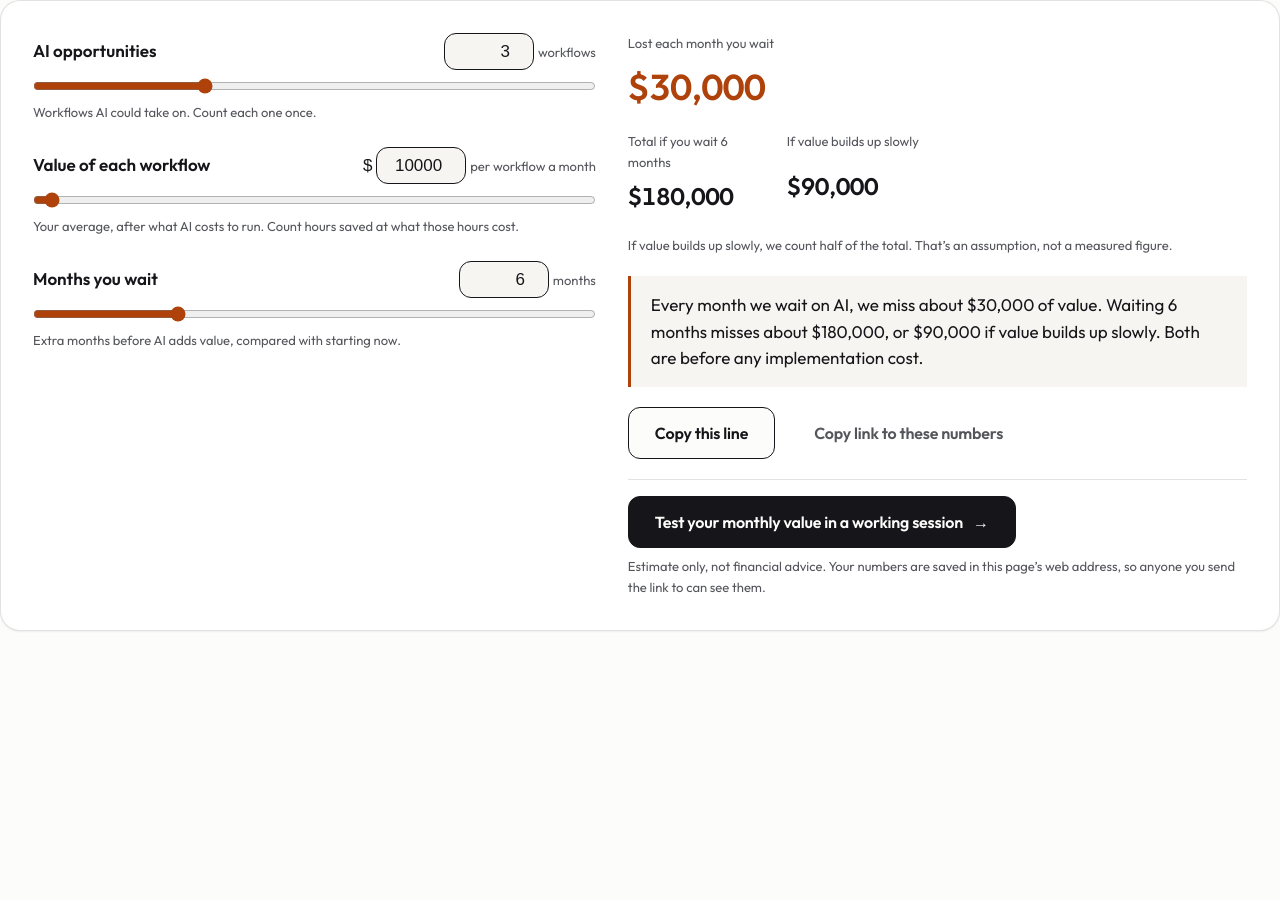
Test: CostOfDelayCalculator › applies a typed value only when the field loses focus, kept inside the range
Replace the text in the number field named "Months you wait, in months" with "99" at (504, 280), box [459,261,549,298]
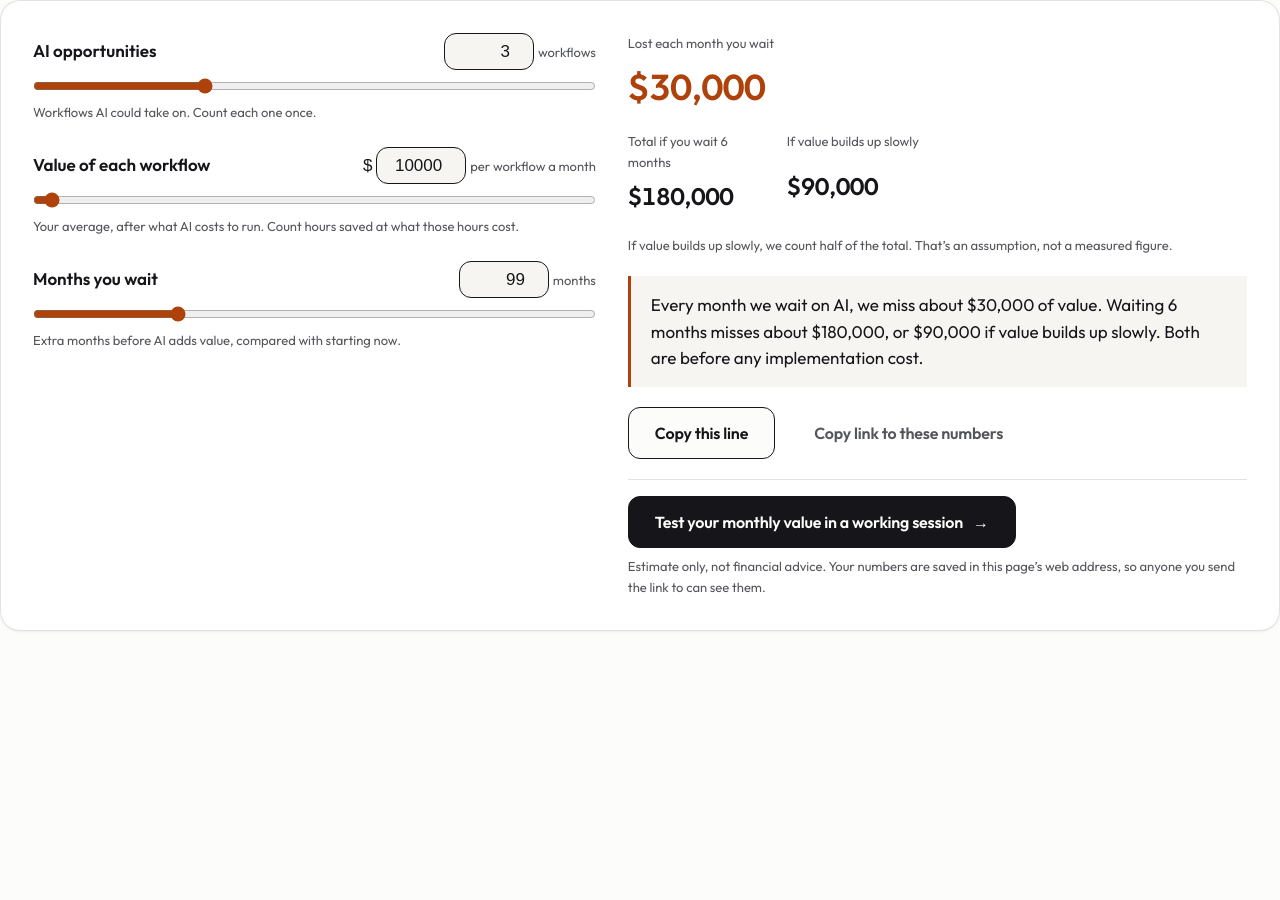
Leave the number field named "Months you wait, in months", box [459,261,549,298]
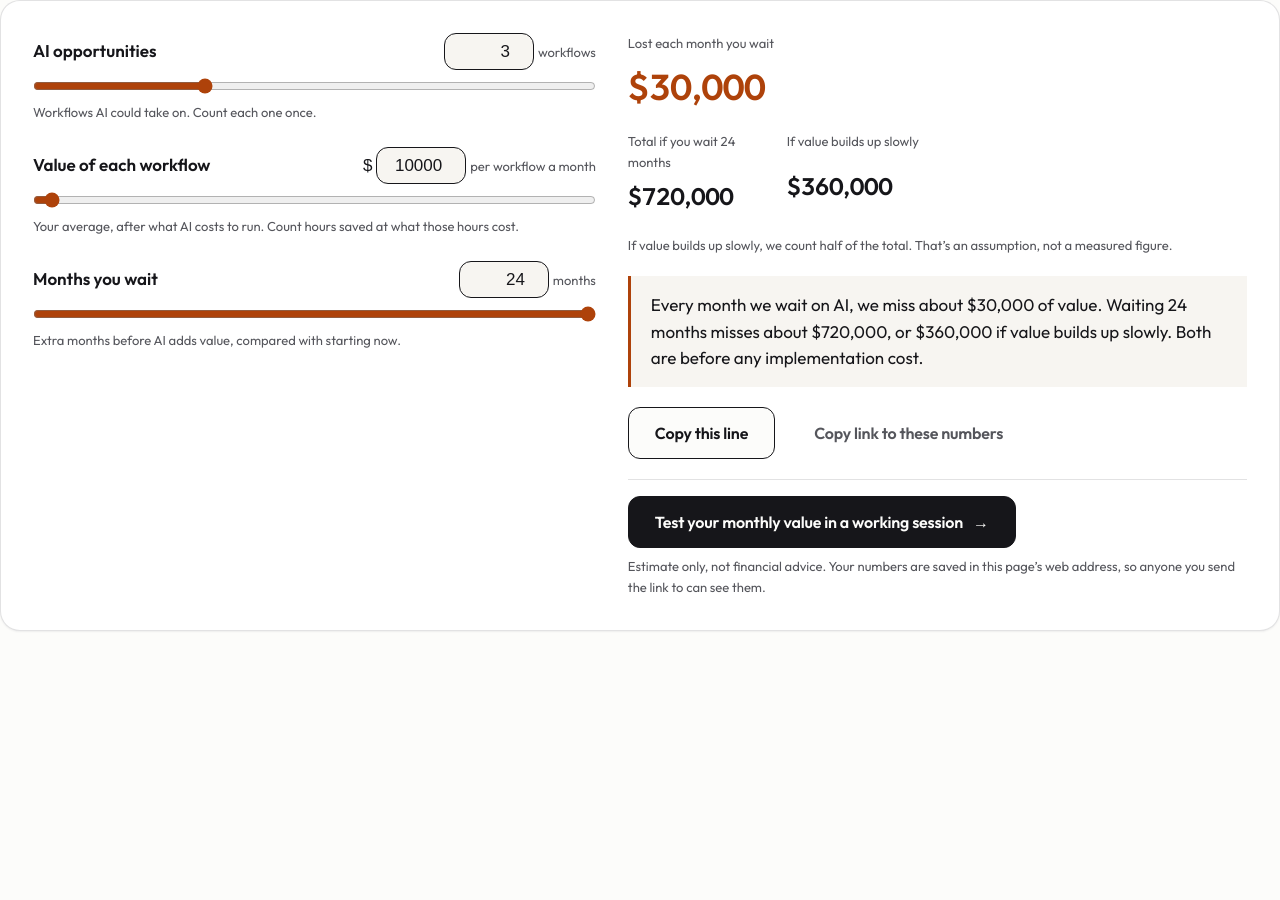
Expected: the text "$720,000" is shown, [628,181,734,211]
